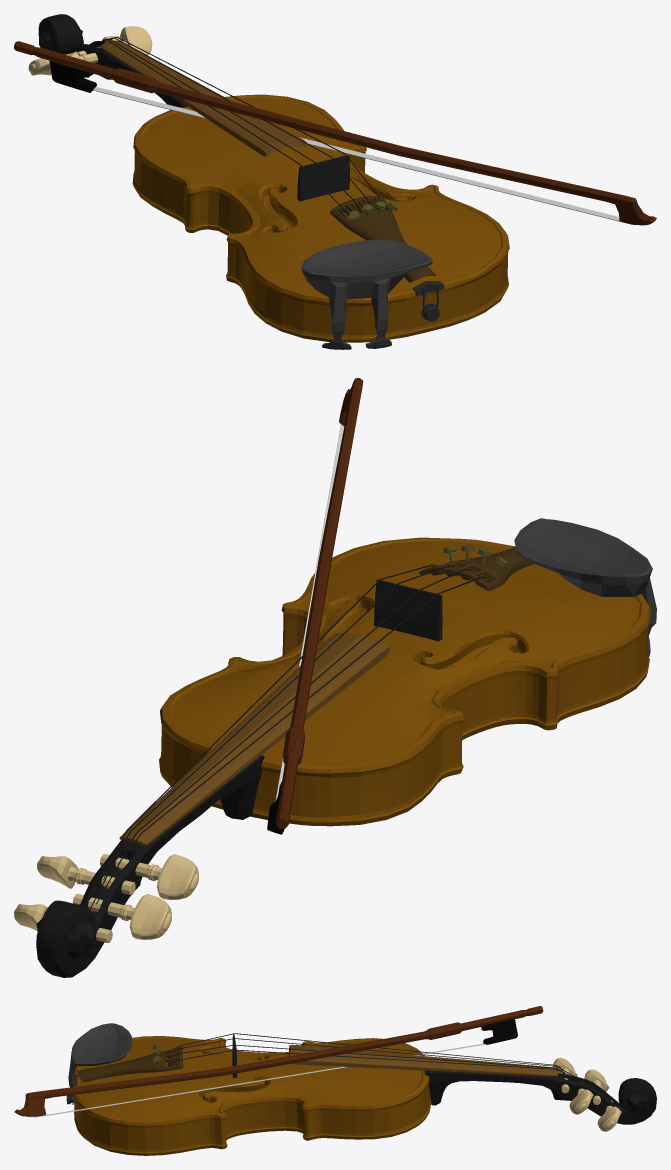
Rendered from violin.fbx.
3 renders of one model, top to bottom at view 1: azimuth 30°, elevation 25°; view 2: azimuth 150°, elevation 25°; view 3: azimuth 270°, elevation 25°, orthographic. The views are drawn at different scales.
Visible parts, largest first — view 1: Group13383; view 2: Group13383; view 3: Group13383.
Part boxes in pixels (<box>): Group13383: <box>14,14,656,349</box>; Group13383: <box>14,378,656,977</box>; Group13383: <box>14,1006,656,1155</box>.
Bounding box in the file's own units: 0.6639 × 0.2561 × 1.58.
